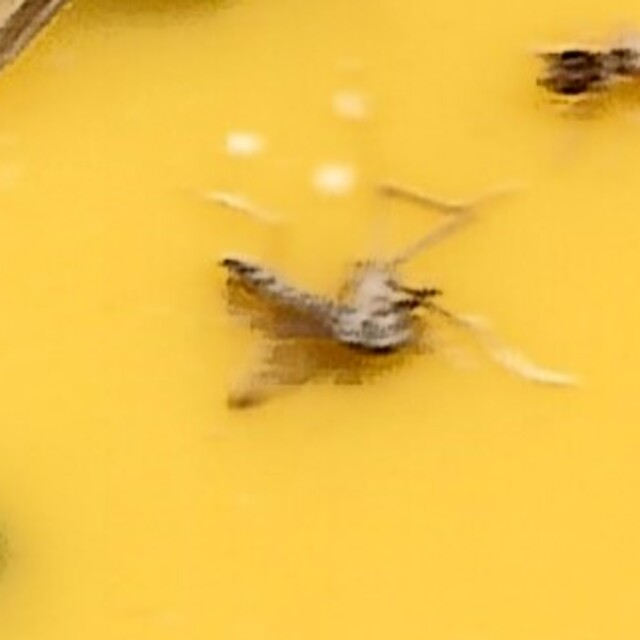Nematocera: (199, 232, 441, 408)
